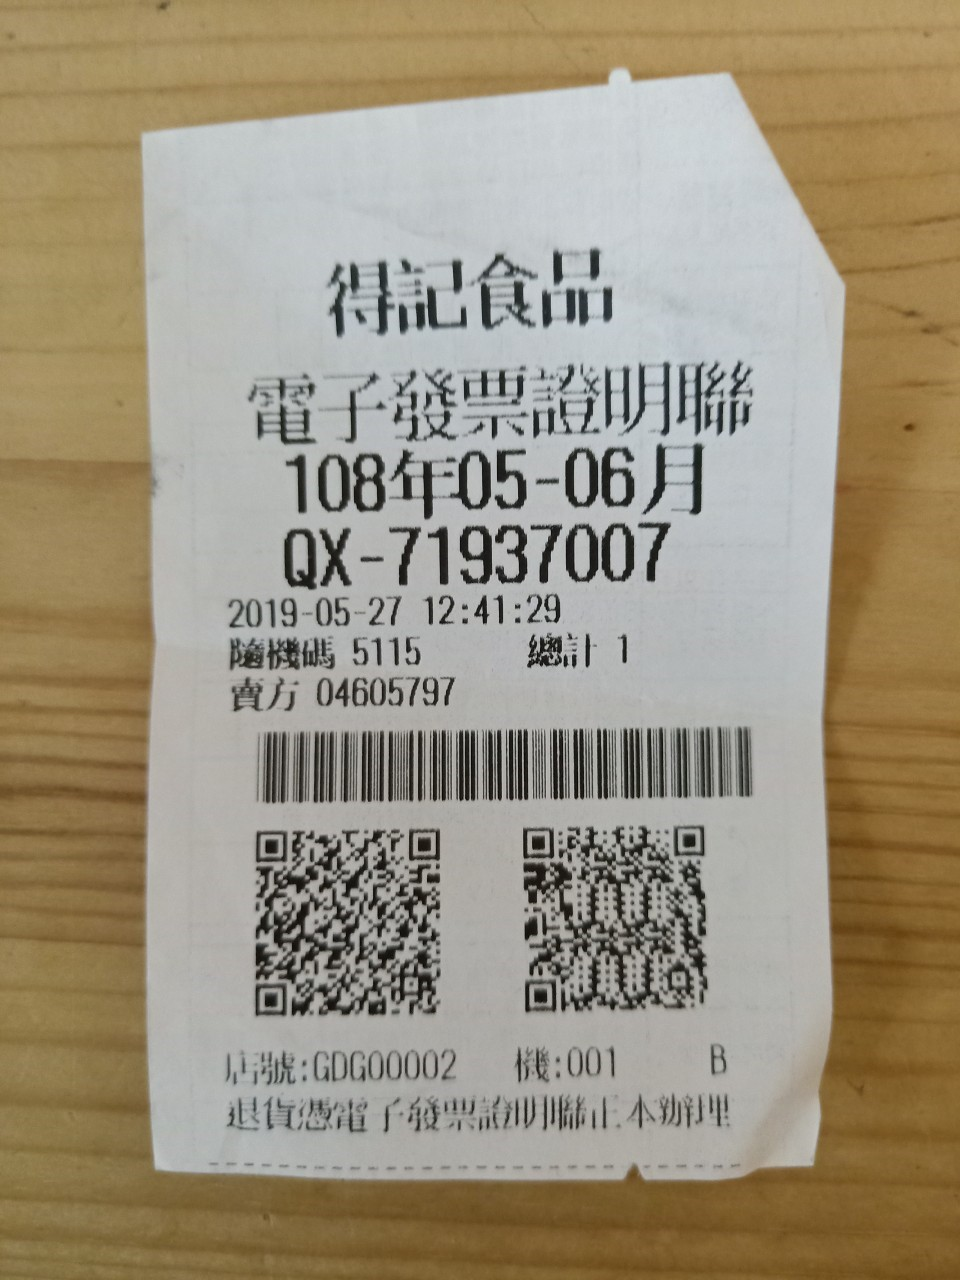Date_New: (280, 437, 708, 517)
Number_New: (386, 517, 673, 592)
